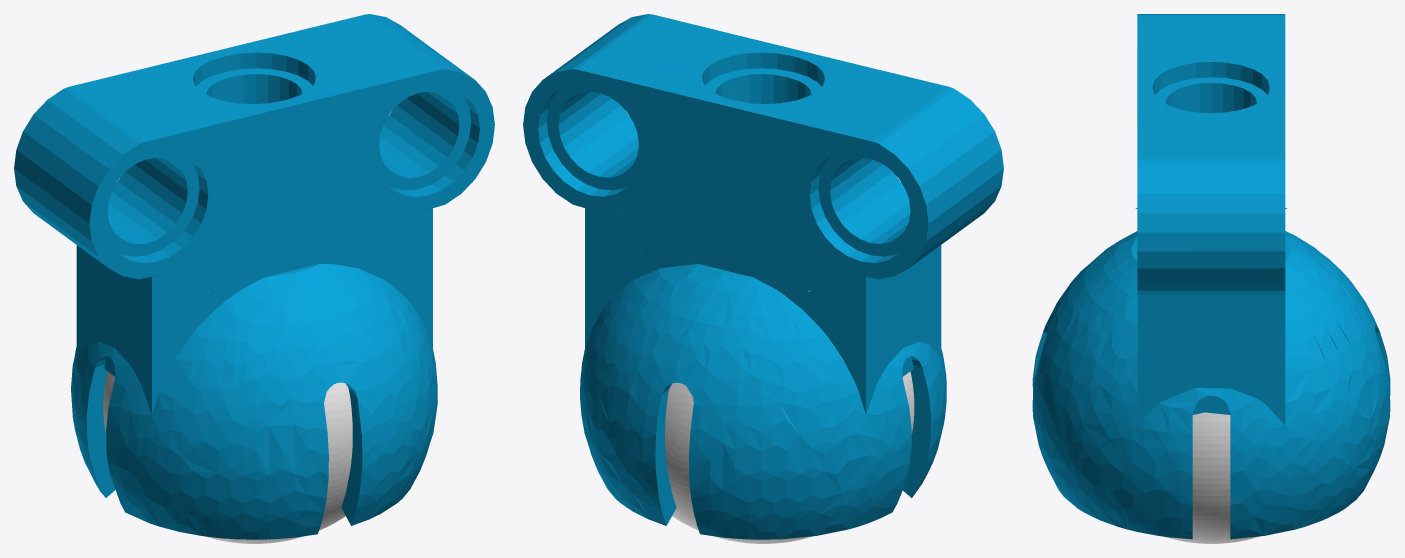
Rendered from tinker.obj.
The picture shows the model from 3 angles, left to right: view 1: azimuth 30°, elevation 25°; view 2: azimuth 150°, elevation 25°; view 3: azimuth 270°, elevation 25°; orthographic projection. The views are drawn at different scales.
Visible parts, largest first — view 1: obj_0, obj_1; view 2: obj_0, obj_1; view 3: obj_0, obj_1.
Part boxes in pixels (x1=…): obj_0: x1=14, y1=14, x2=494, y2=539; obj_1: x1=103, y1=371, x2=352, y2=543; obj_0: x1=523, y1=14, x2=1003, y2=539; obj_1: x1=665, y1=371, x2=914, y2=543; obj_0: x1=1032, y1=14, x2=1390, y2=539; obj_1: x1=1164, y1=412, x2=1259, y2=543.
Bounding box in the file's own units: 73.9 × 78.41 × 57.64.
